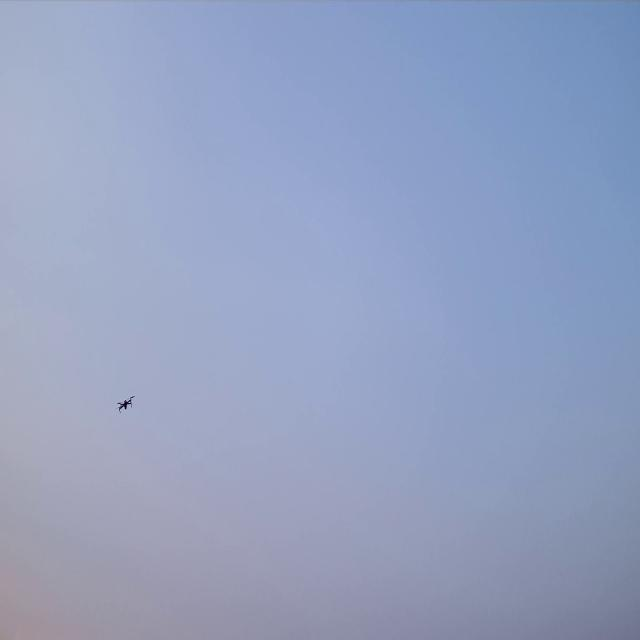UAV: (115, 395, 135, 413)
